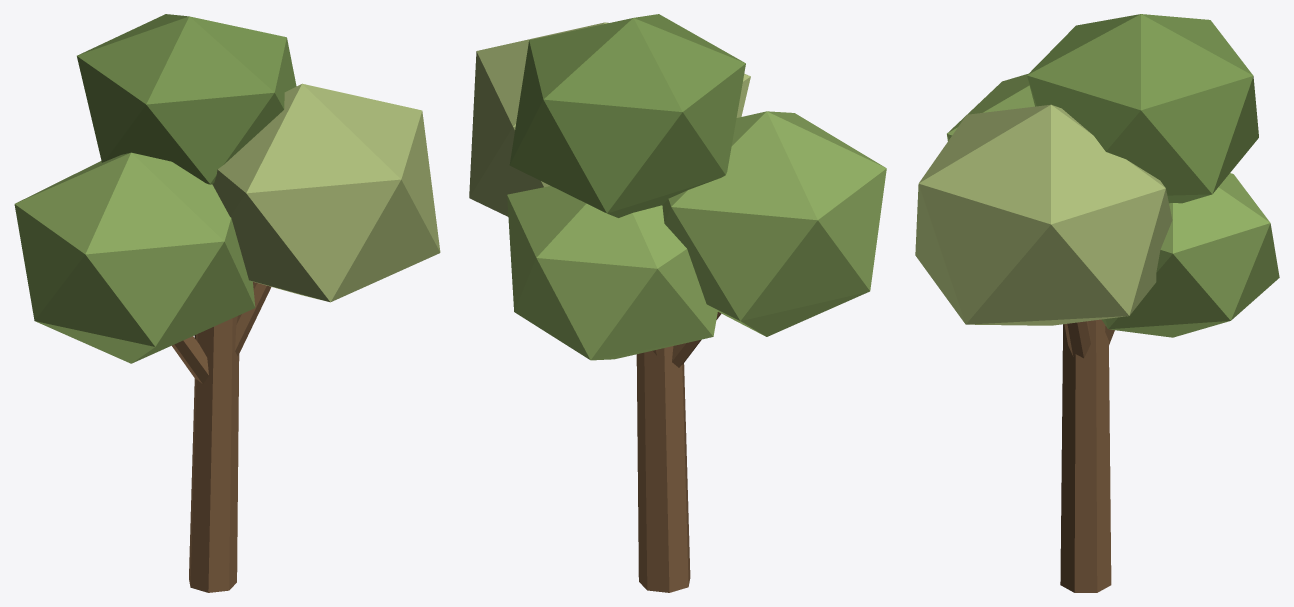
Rendered from oak.glb.
3 views of the same model, side by side, from view 1: azimuth 30°, elevation 25°; view 2: azimuth 150°, elevation 25°; view 3: azimuth 270°, elevation 25° (orthographic). The views are drawn at different scales.
Parts seen in each view (by area): view 1: oak__Oak_crown_0, oak__Oak_crown_1, oak__Oak_crown_2, oak__Oak_bark; view 2: oak__Oak_crown_0, oak__Oak_crown_2, oak__Oak_bark, oak__Oak_crown_1; view 3: oak__Oak_crown_1, oak__Oak_crown_2, oak__Oak_crown_0, oak__Oak_bark.
Boxes of the visible parts, <box> form: oak__Oak_crown_0: <box>14,152,255,363</box>; oak__Oak_crown_1: <box>212,83,440,302</box>; oak__Oak_crown_2: <box>77,14,296,184</box>; oak__Oak_bark: <box>172,282,271,592</box>; oak__Oak_crown_0: <box>507,111,886,360</box>; oak__Oak_crown_2: <box>509,14,745,217</box>; oak__Oak_bark: <box>636,312,721,592</box>; oak__Oak_crown_1: <box>469,22,750,216</box>; oak__Oak_crown_1: <box>915,104,1172,325</box>; oak__Oak_crown_2: <box>1027,14,1258,203</box>; oak__Oak_crown_0: <box>947,73,1279,337</box>; oak__Oak_bark: <box>1060,319,1114,592</box>.
Size of the model in its own units: 3.14 by 4.34 by 2.51.
